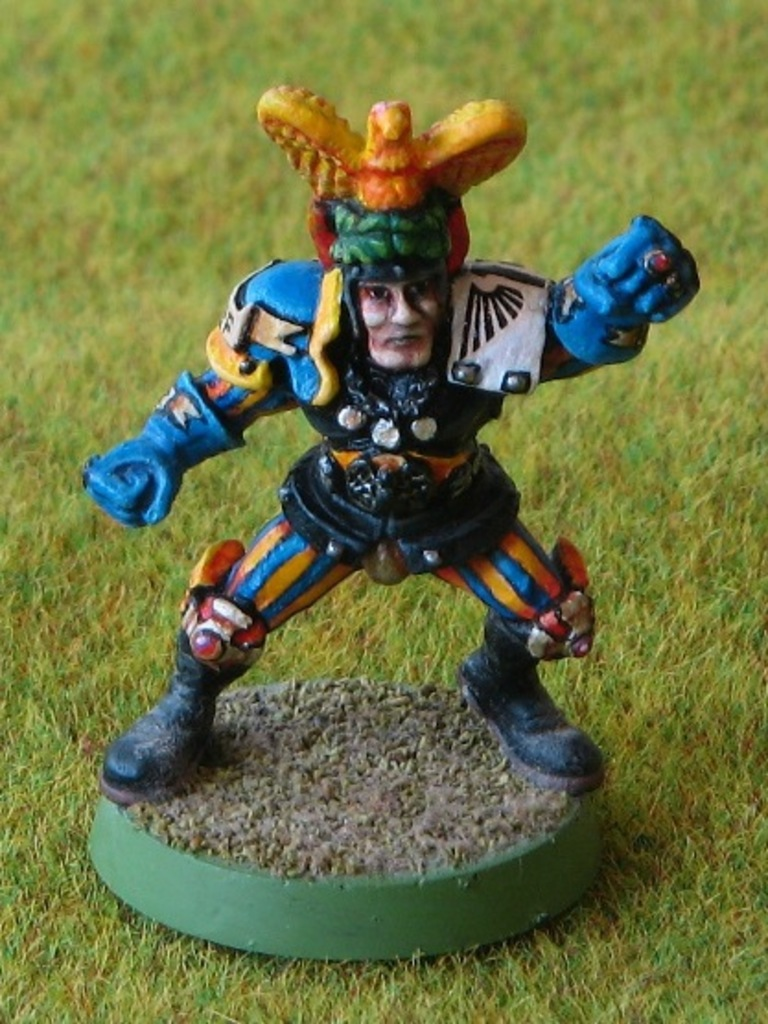Person: (81, 83, 701, 806)
